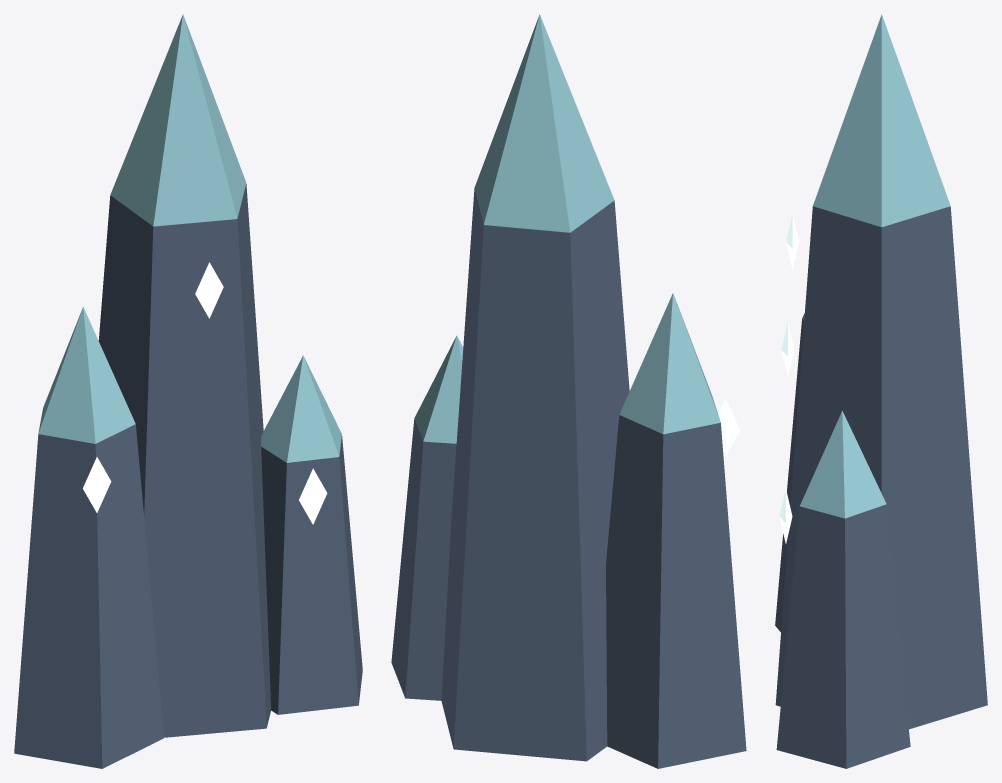
Rendered from moon-crystal.glb.
3 renders of one model, left to right at view 1: azimuth 30°, elevation 25°; view 2: azimuth 150°, elevation 25°; view 3: azimuth 270°, elevation 25°, orthographic. The views are drawn at different scales.
Parts seen in each view (by area): view 1: moon-crystal; view 2: moon-crystal; view 3: moon-crystal.
Boxes of the visible parts, <box> form: moon-crystal: <box>14,14,362,768</box>; moon-crystal: <box>391,14,746,768</box>; moon-crystal: <box>775,14,987,768</box>.
Bounding box in the file's own units: 2.42 × 4.55 × 1.3.
